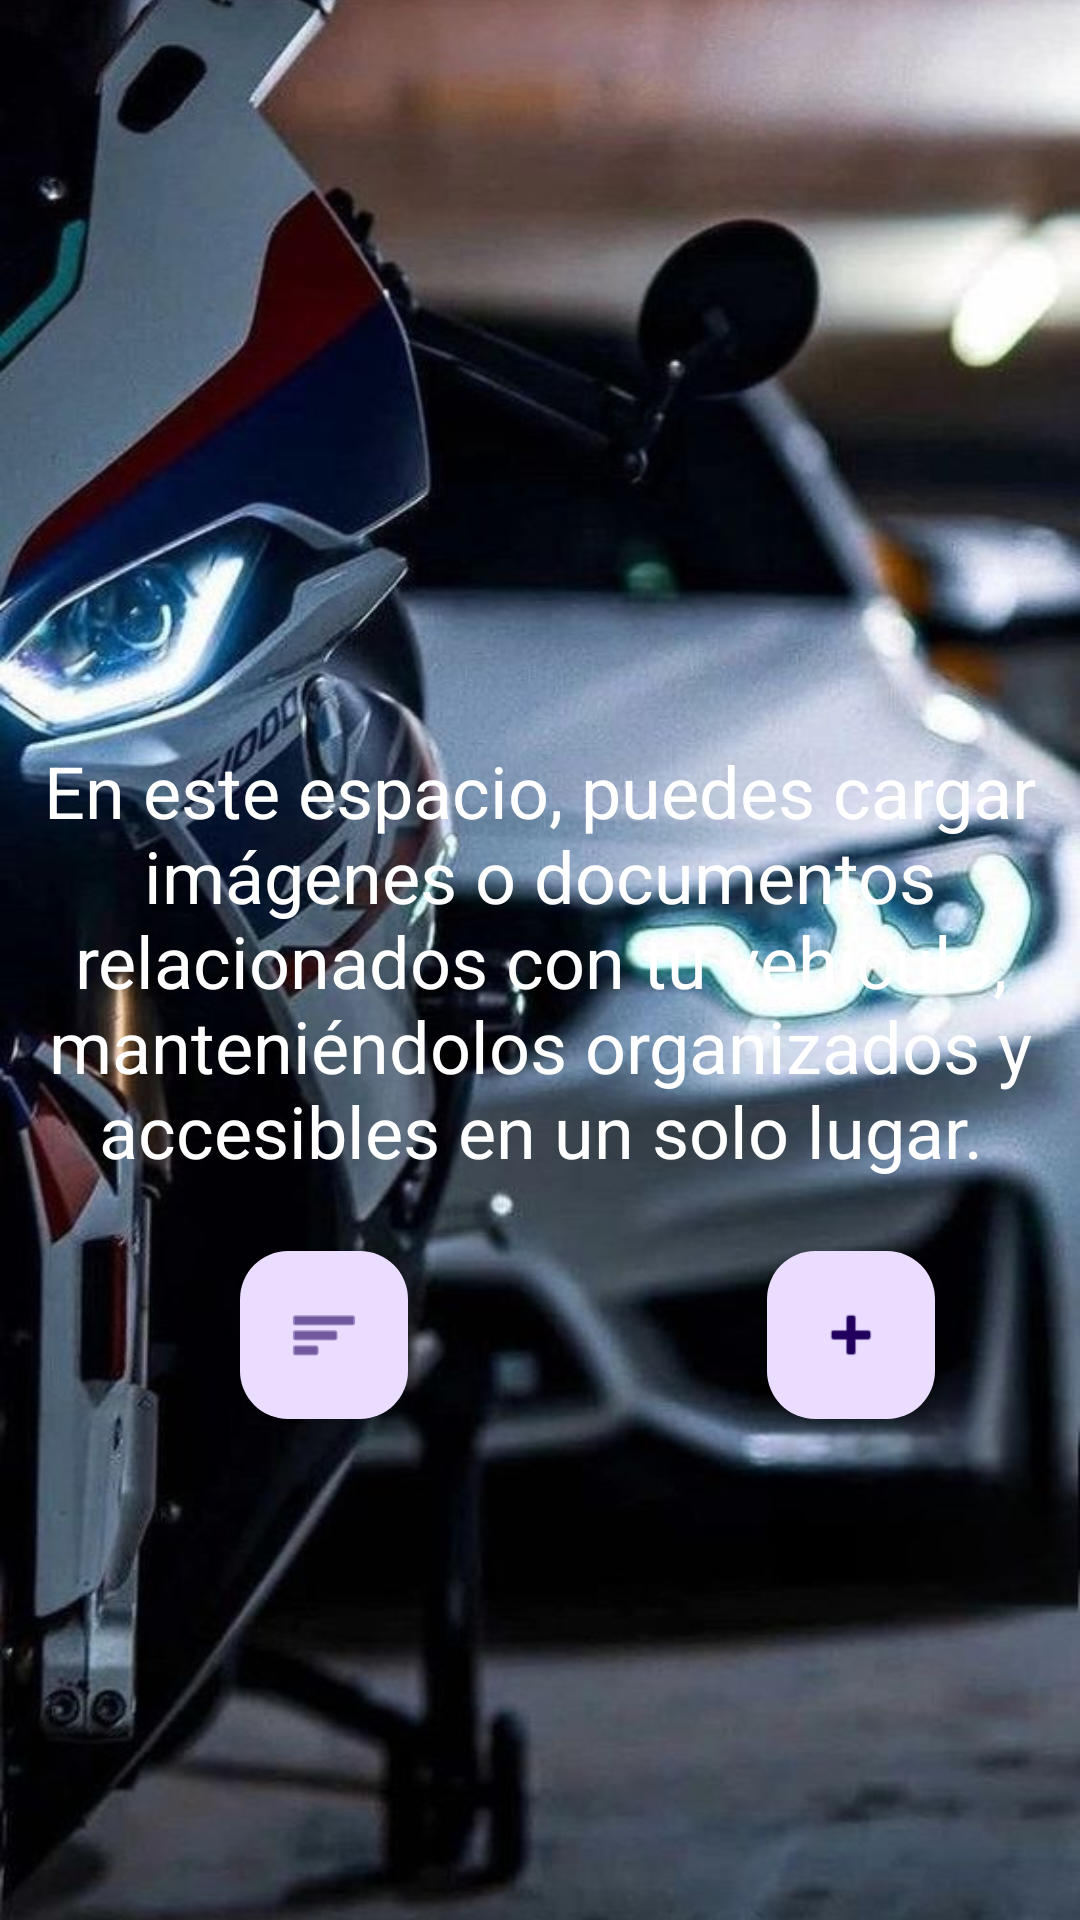

Icon click points for this 1080 x 1920 phone screenshot, format [x,y]:
add: [851,1335]
sort by size: [324,1335]
